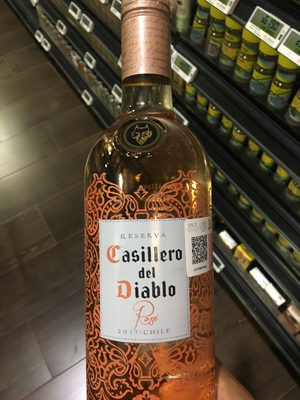casillero del diablo rose: (82, 8, 211, 400)
